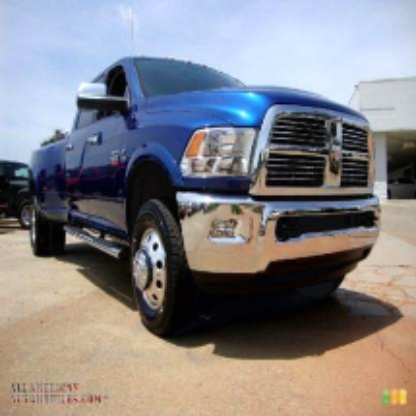Vehicle: (26, 56, 379, 334)
